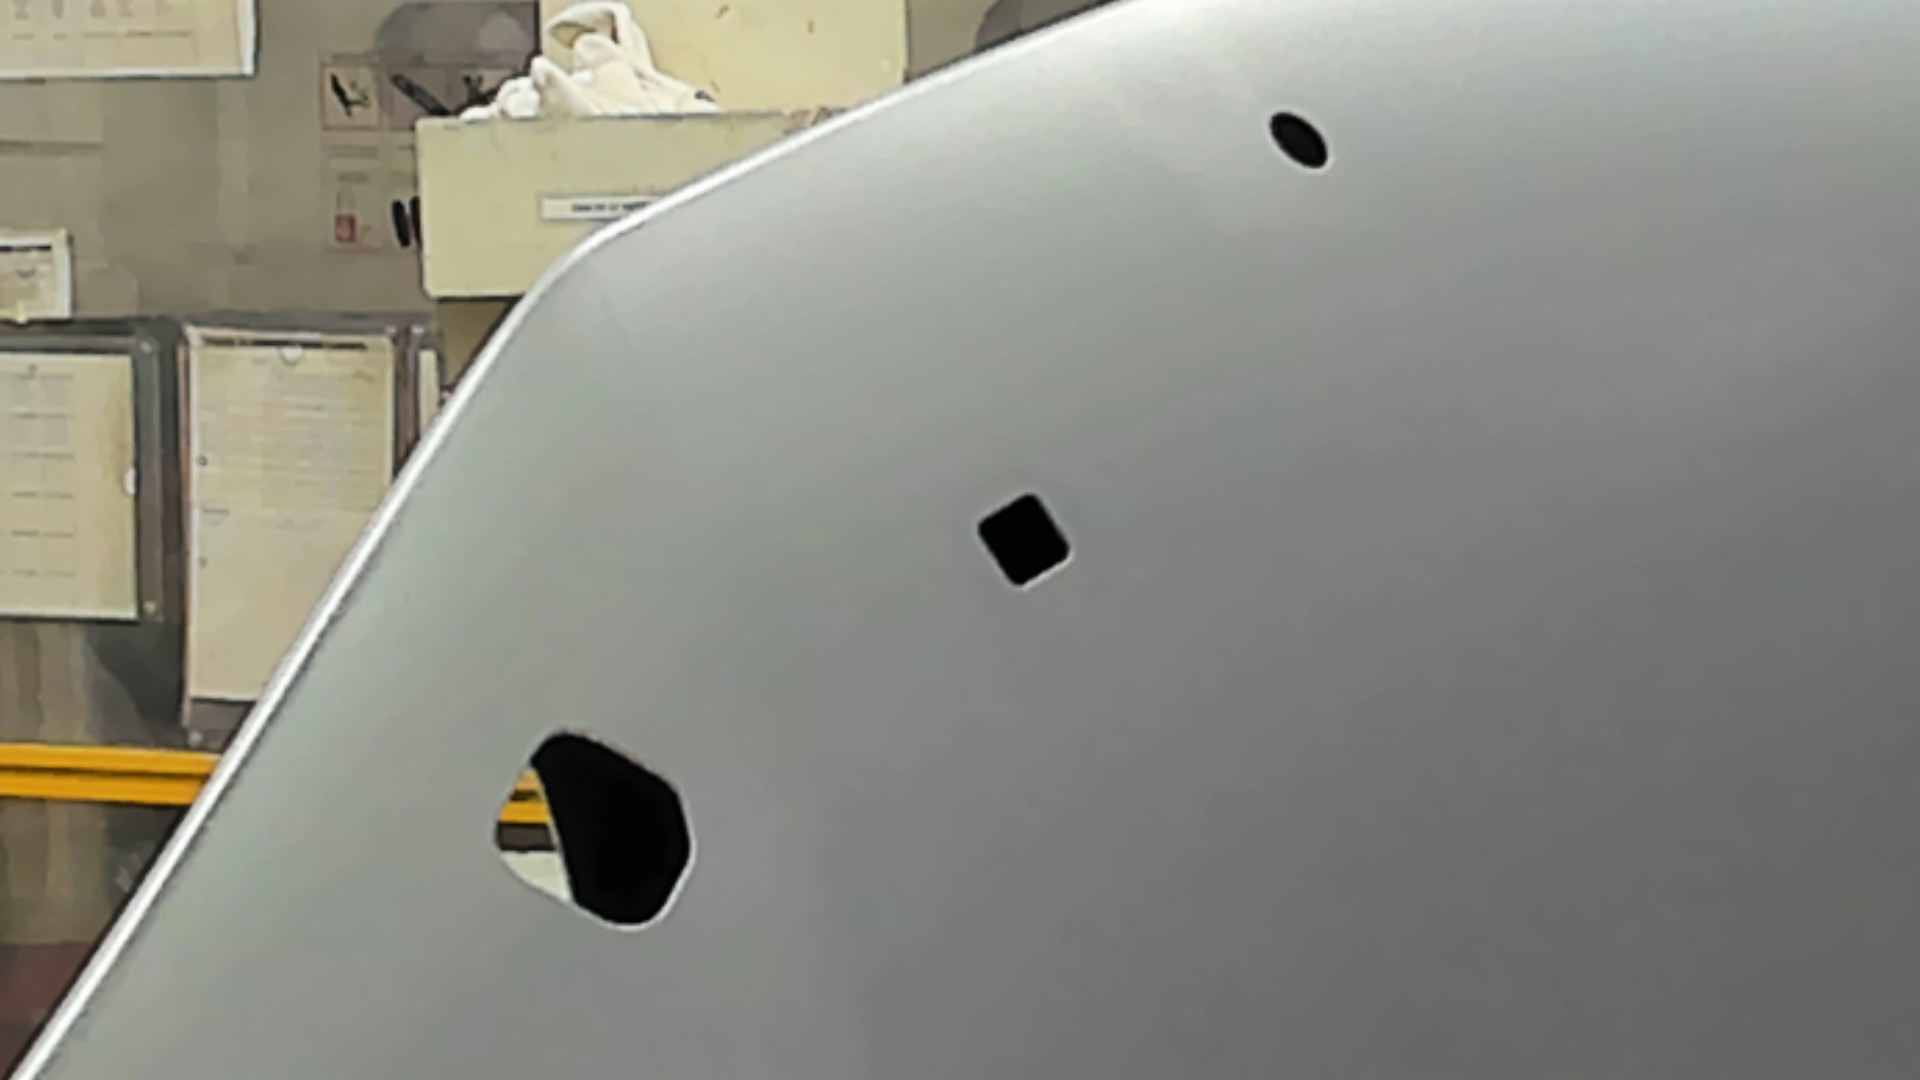chico: (1266, 108, 1331, 170)
grande: (491, 728, 698, 938)
mediano: (975, 489, 1076, 592)
